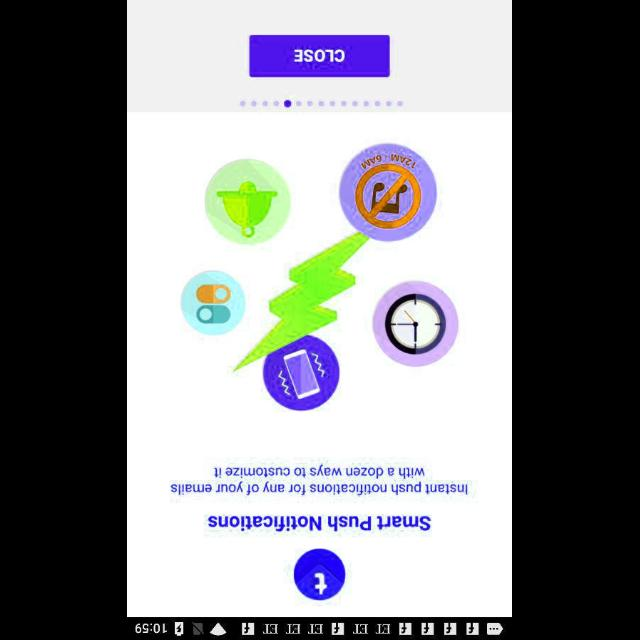image: (181, 143, 459, 411), (294, 548, 346, 600)
pageindicator: (240, 98, 404, 108)
text: (172, 464, 468, 494), (208, 514, 432, 532)
textbutton: (250, 34, 390, 78)
uppertaskbar: (128, 617, 512, 639)
